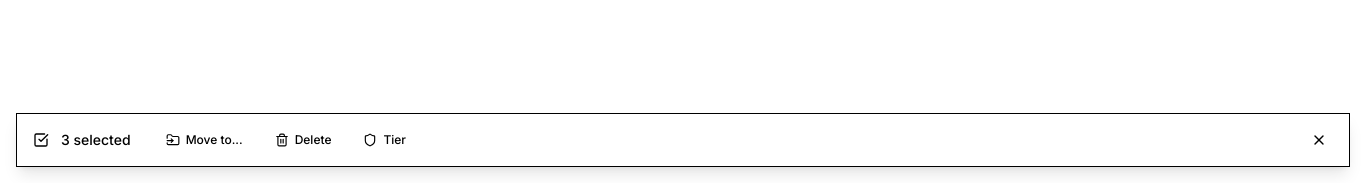
Scenario: BatchActionBar › "Change Tier" opens tier dropdown
This screenshot has width=1366, height=183.
Click the button "Tier": point(385, 140) [354,126,416,154]
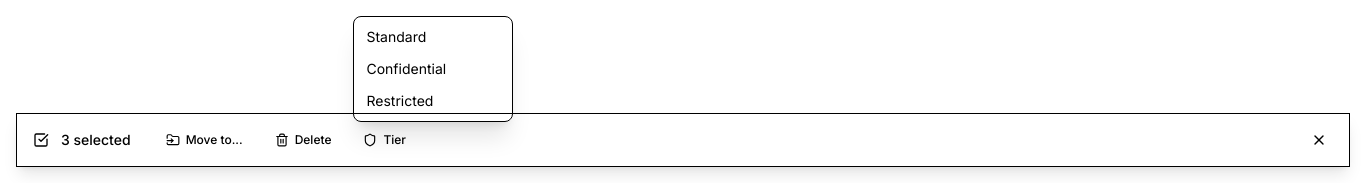
Check: the button "Standard" is shown, box [354,21,512,53]
Check: the button "Confidential" is shown, box [354,53,512,85]
Check: the button "Restricted" is shown, box [354,85,512,117]
